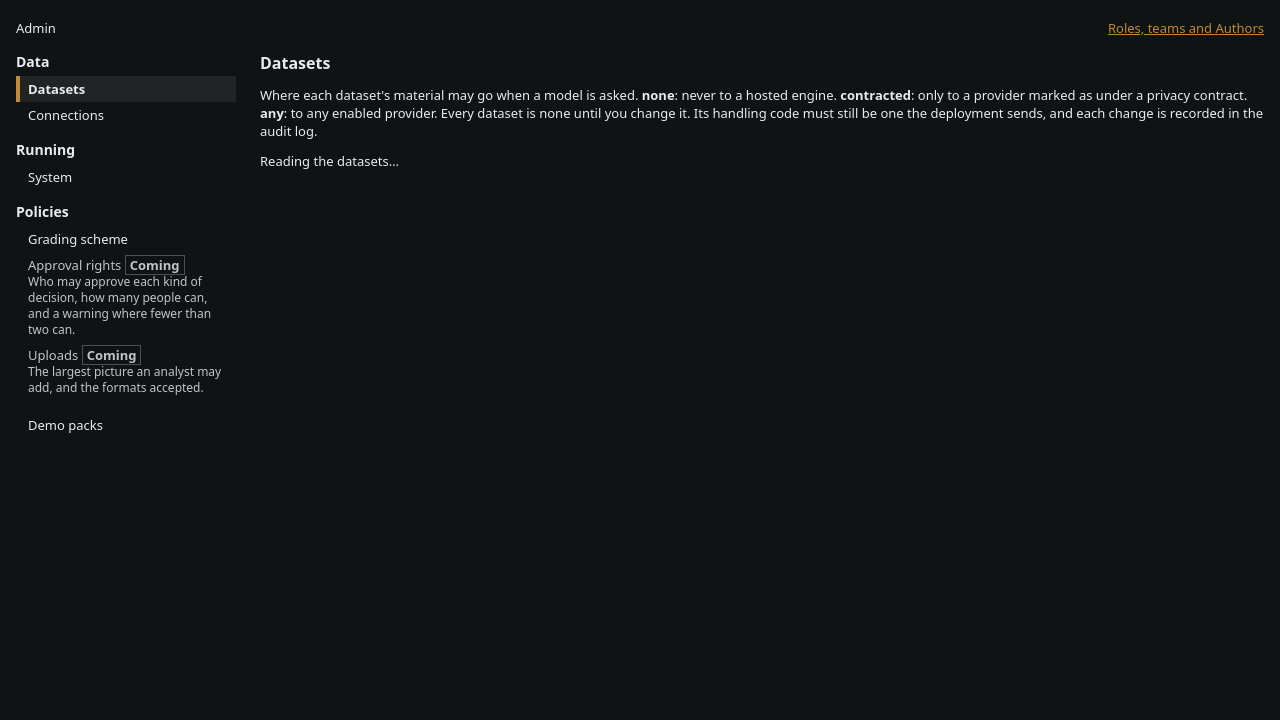
Test: Admin's words: roles by name, never people or ids › in Datasets: a dataset's Authors and Change owner
Click the button "Datasets" at (128, 89), box [20,76,236,102]
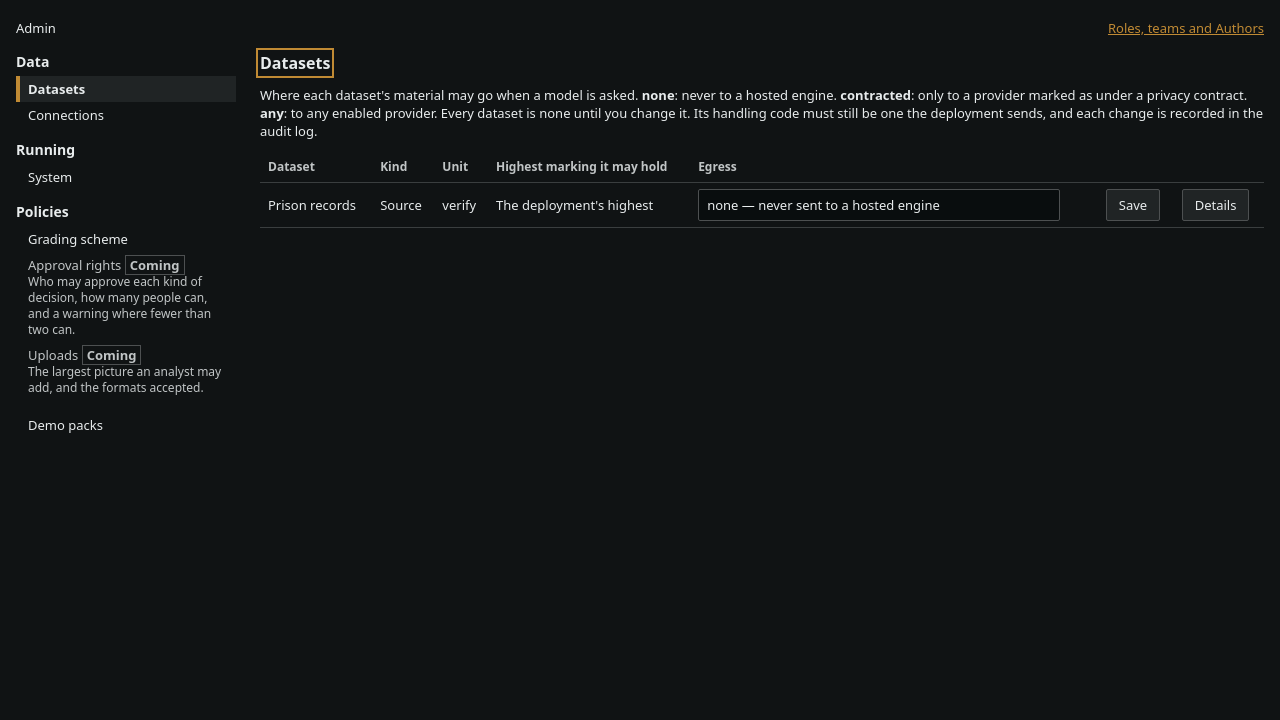
Click the button with aria-label "Details for Prison records" at (1216, 205), box [1182,189,1249,221]
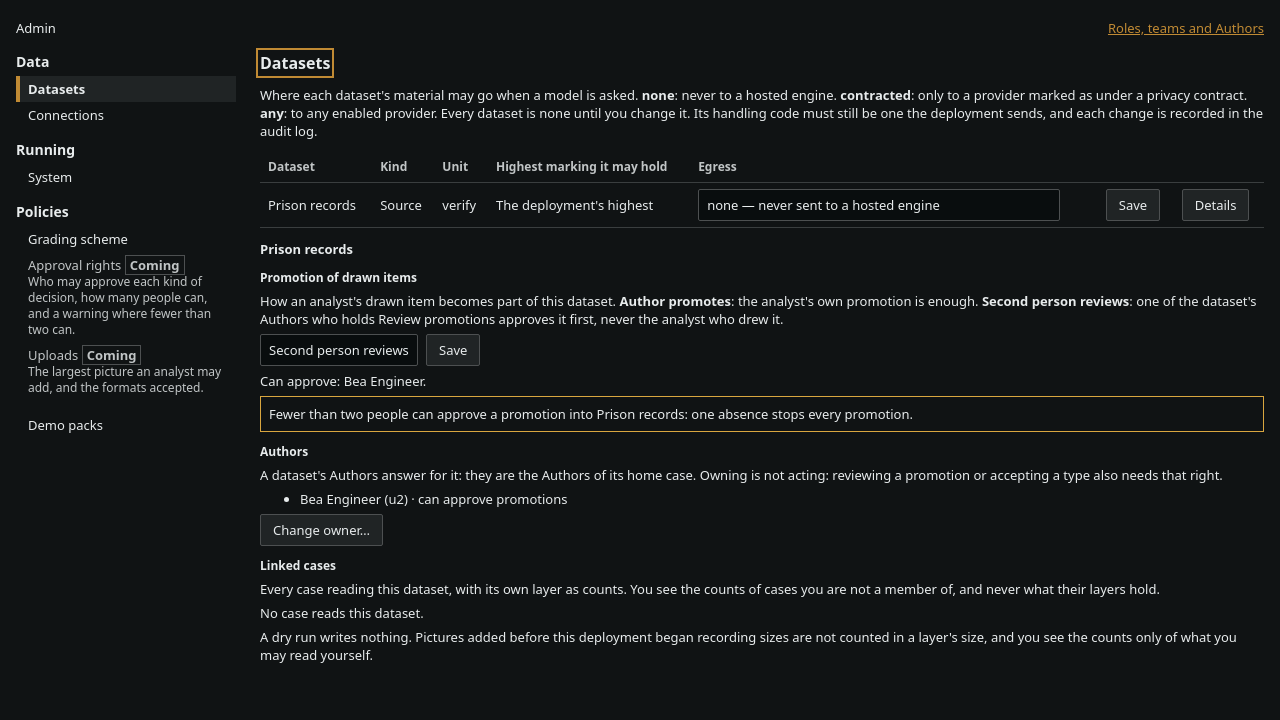
Now the button with aria-label "Change owner of Prison records" is shown, box [260,514,383,546]
